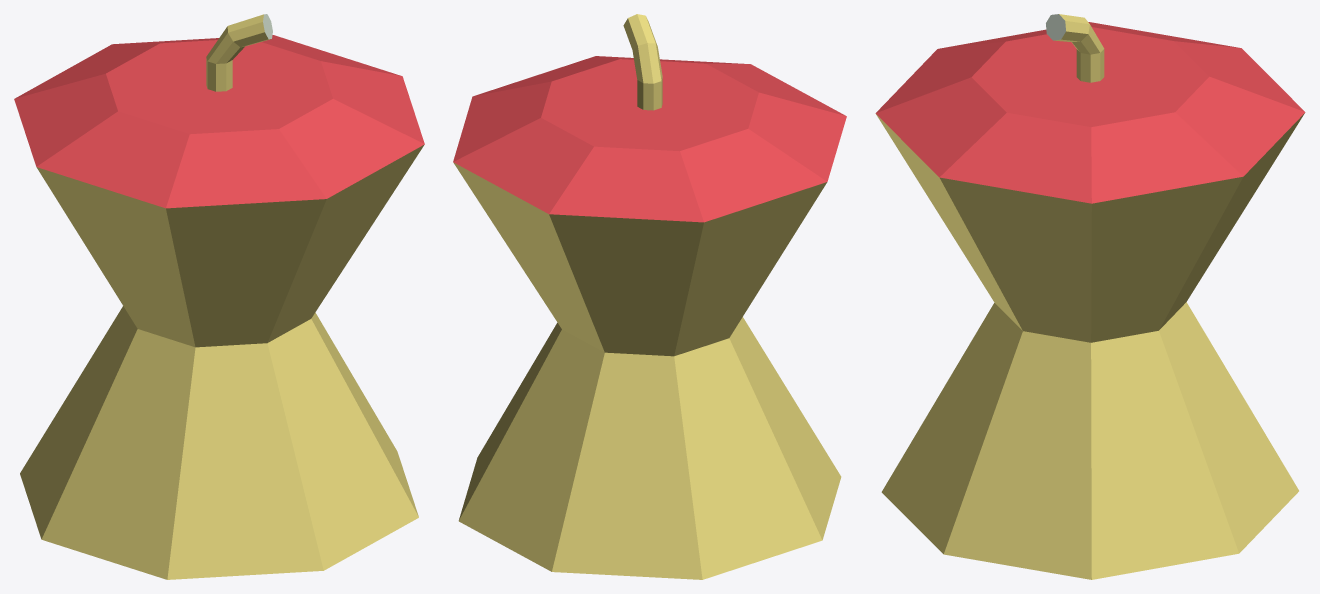
Rendered from Apple.fbx.
3 renders of one model, left to right at view 1: azimuth 30°, elevation 25°; view 2: azimuth 150°, elevation 25°; view 3: azimuth 270°, elevation 25°, orthographic. The views are drawn at different scales.
Parts seen in each view (by area): view 1: Cylinder; view 2: Cylinder; view 3: Cylinder.
Boxes of the visible parts, bbox=[...] form: Cylinder: bbox=[14, 14, 424, 579]; Cylinder: bbox=[453, 14, 846, 579]; Cylinder: bbox=[875, 14, 1305, 579].
Size of the model in its own units: 103 by 137 by 103.
